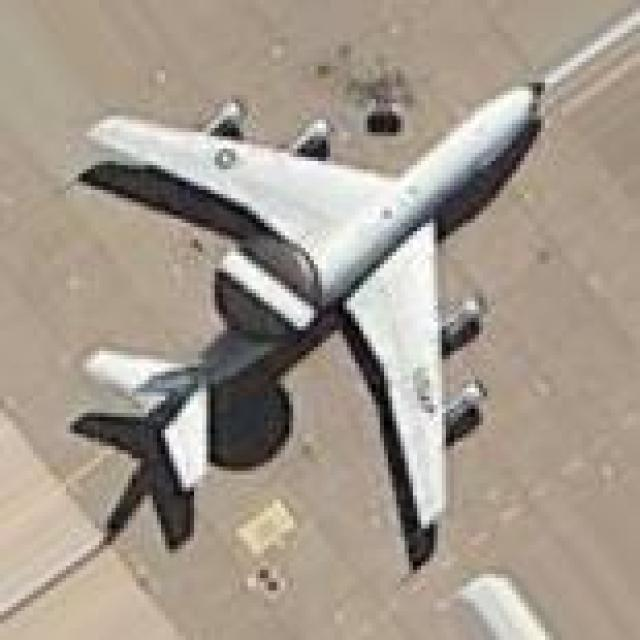E-3_TopDown: (62, 70, 549, 570)
